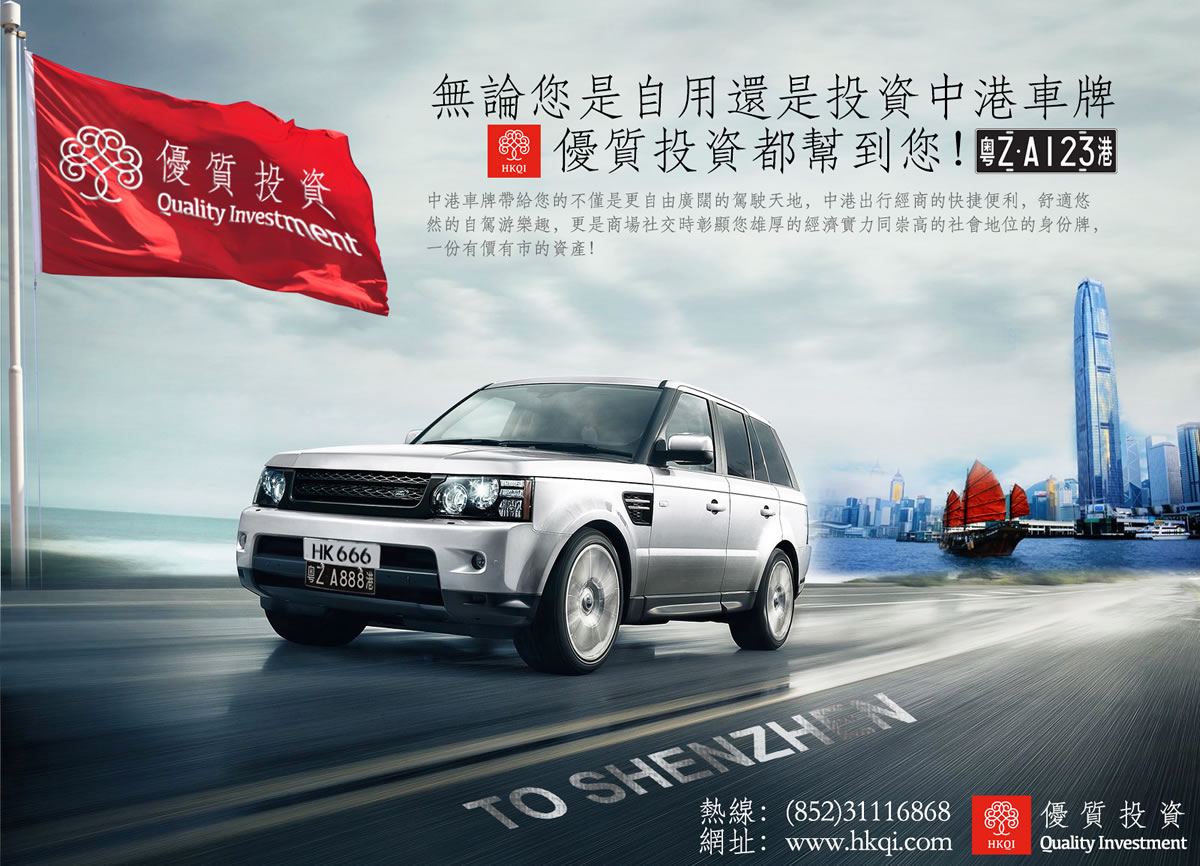license plate: (300, 535, 381, 599)
